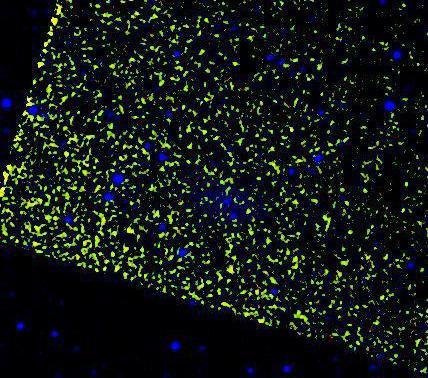star: (244, 164, 274, 194)
